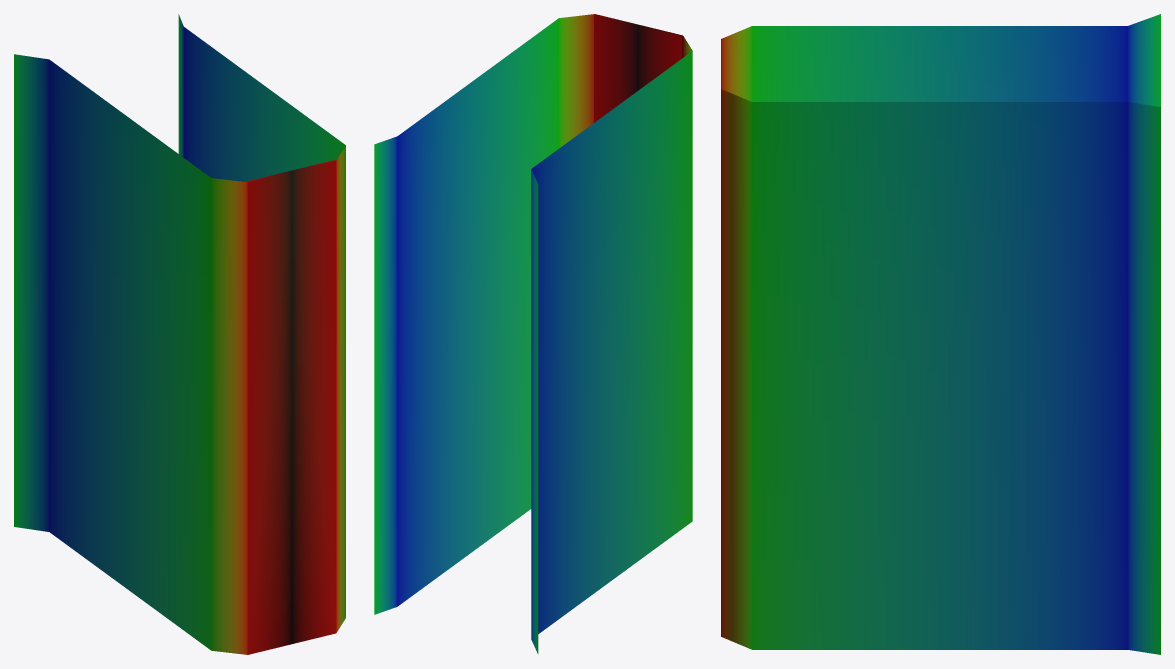
The model's file is secret_wall_new.fbx.
The picture shows the model from 3 angles, left to right: view 1: azimuth 30°, elevation 25°; view 2: azimuth 150°, elevation 25°; view 3: azimuth 270°, elevation 25°; orthographic projection. The views are drawn at different scales.
Parts seen in each view (by area): view 1: Plane.001; view 2: Plane.001; view 3: Plane.001.
Part boxes in pixels (box(x1,y1,x2,y2)): Plane.001: box(14, 14, 345, 654); Plane.001: box(374, 14, 692, 654); Plane.001: box(721, 14, 1160, 654).
Size of the model in its own units: 130 by 357 by 259.
